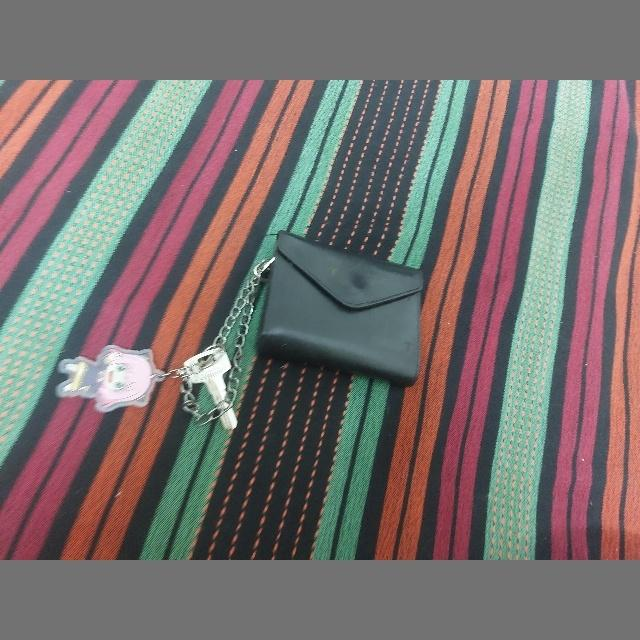Wallet: (262, 230, 426, 388)
